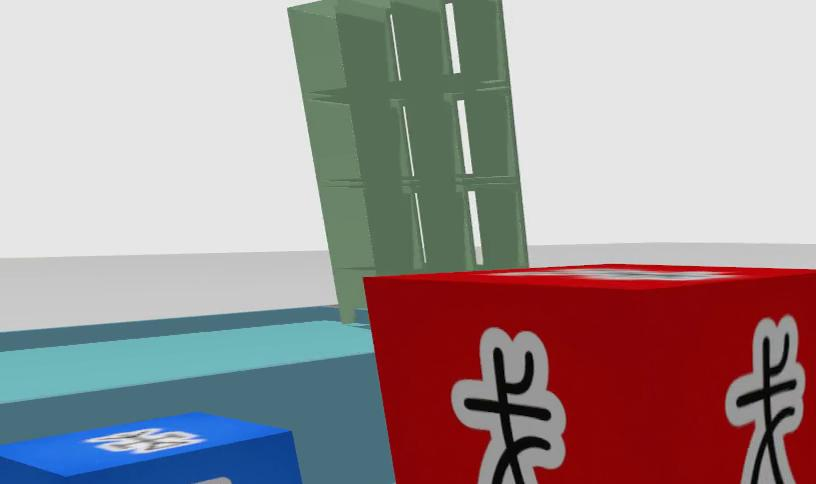KFS_FAKE: (365, 265, 816, 484), (451, 328, 565, 484), (726, 315, 806, 484)
KFS_REAL: (0, 413, 302, 484), (85, 428, 203, 453), (188, 478, 231, 484)
